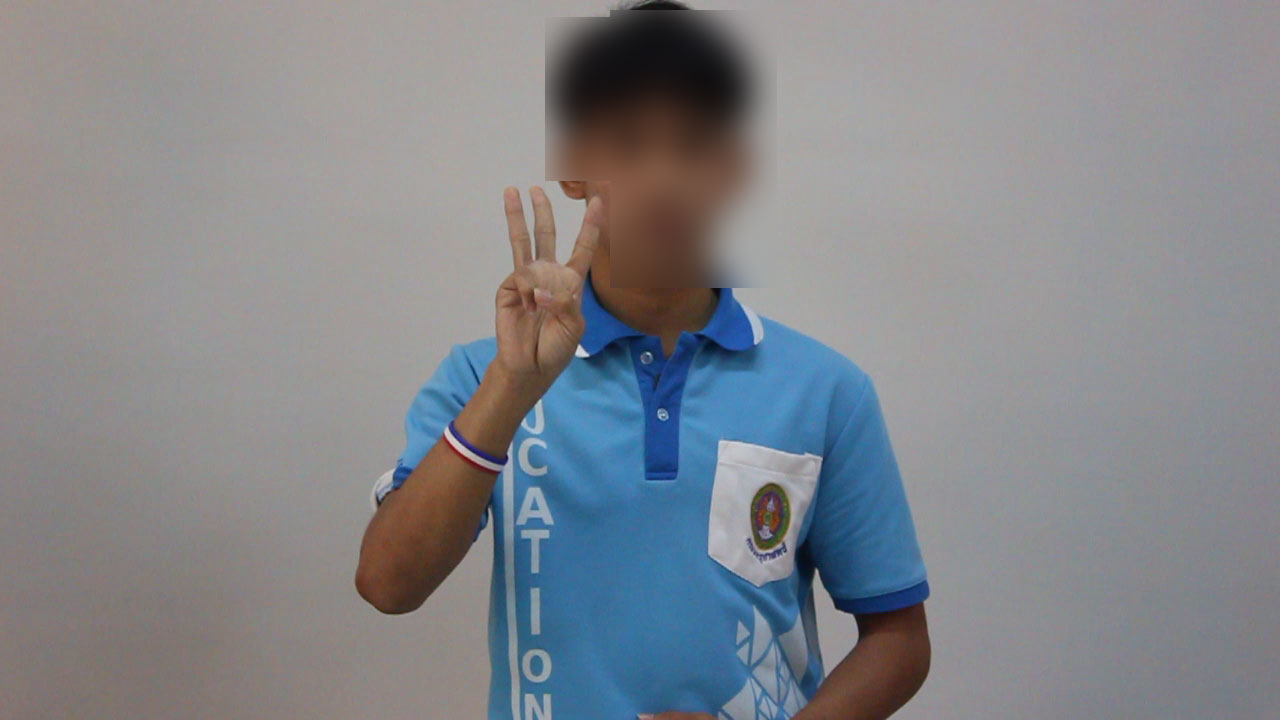wor: (483, 176, 609, 391)
